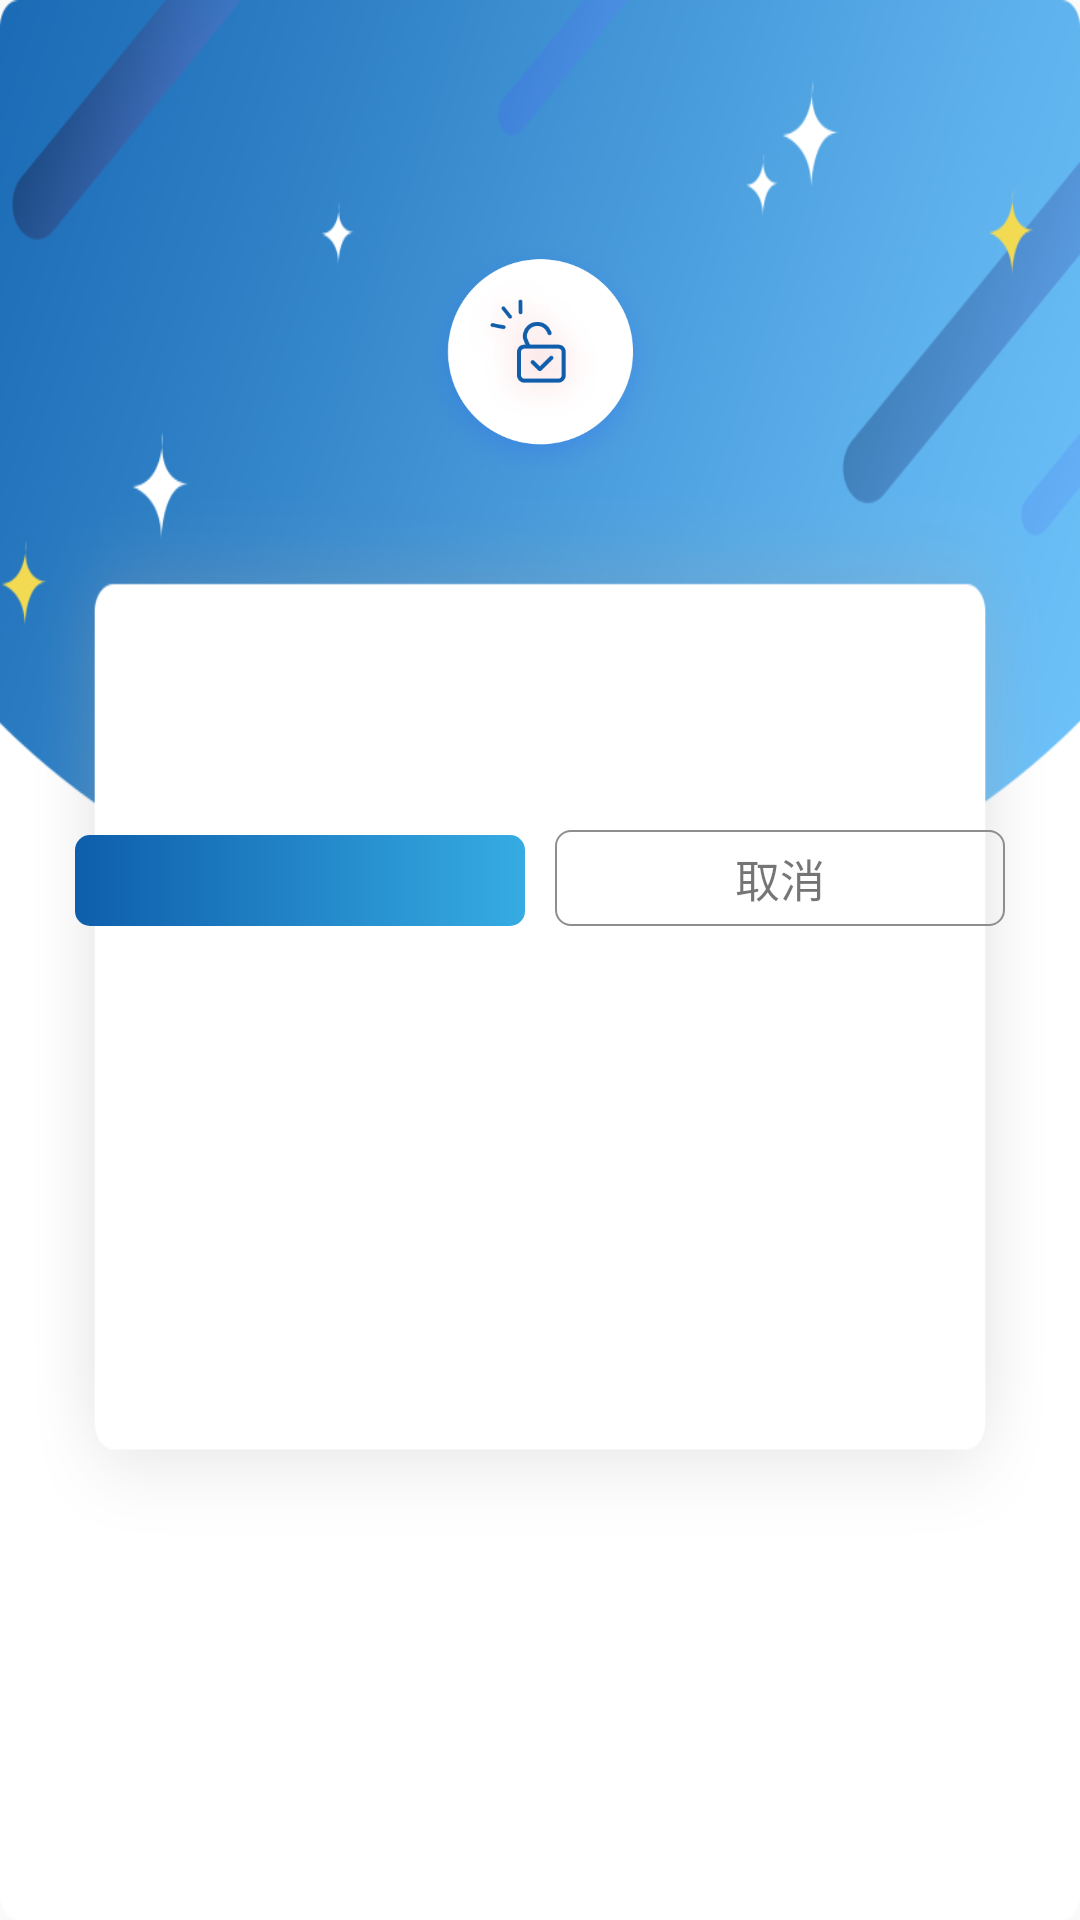

Point at icon controls on the screen. Image size 1080 × 1920, points as (x=x, y=y).
open lock: (x=540, y=352)
